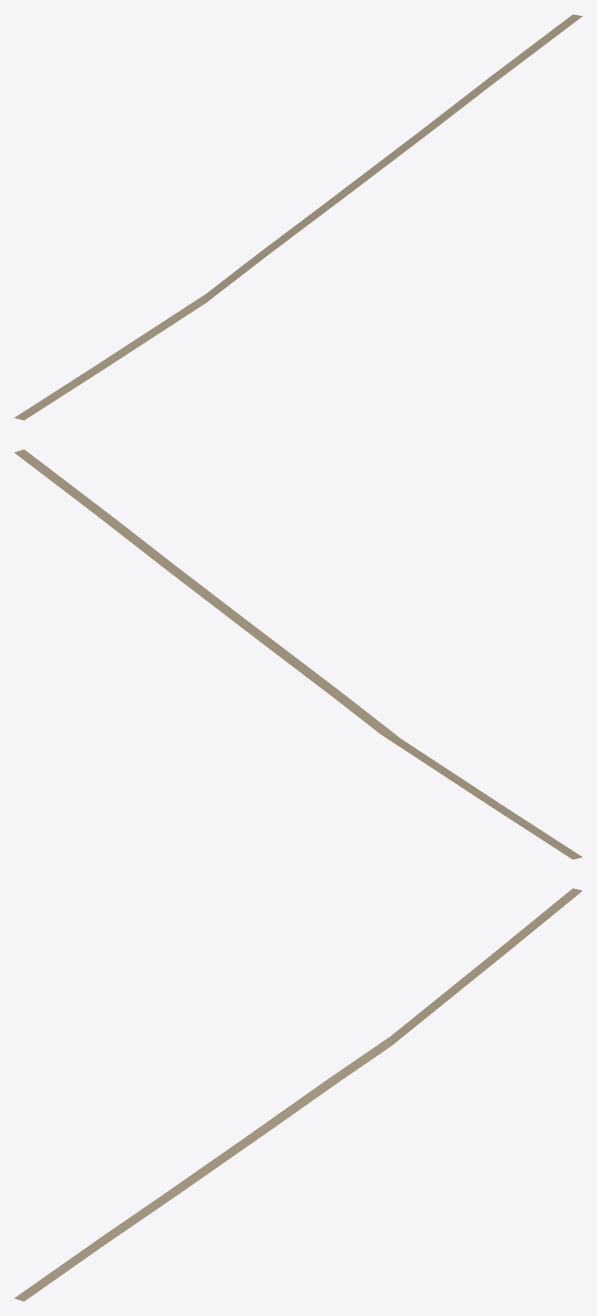
Rendered from farm_20_12_track.glb.
The picture shows the model from 3 angles, top to bottom: view 1: azimuth 90°, elevation 25°; view 2: azimuth 150°, elevation 25°; view 3: azimuth 270°, elevation 25°; orthographic projection.
Visible parts, largest first — view 1: geometry_0; view 2: geometry_0; view 3: geometry_0.
Boxes of the visible parts, x1,y1,x2,y2 form: geometry_0: [14, 14, 582, 420]; geometry_0: [14, 449, 582, 859]; geometry_0: [14, 888, 582, 1301].
Bounding box in the file's own units: 272 × 4.91 × 160.
